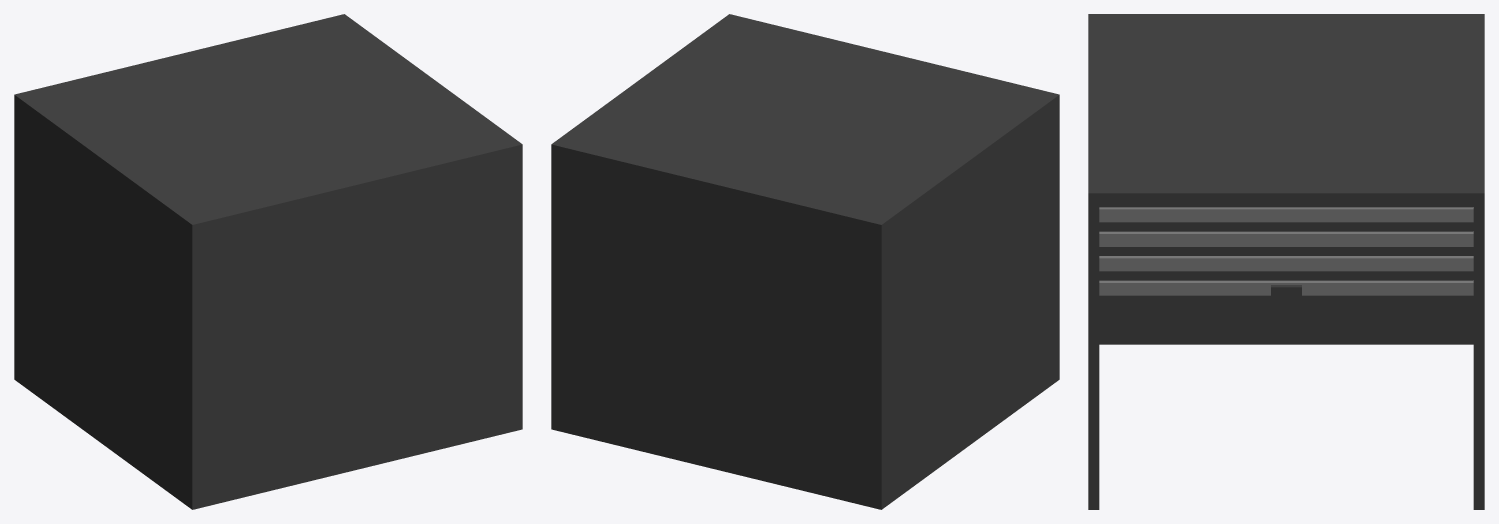
File: garage_Open.fbx
The picture shows the model from 3 angles, left to right: view 1: azimuth 30°, elevation 25°; view 2: azimuth 150°, elevation 25°; view 3: azimuth 270°, elevation 25°; orthographic projection. The views are drawn at different scales.
Parts seen in each view (by area): view 1: garage_Open; view 2: garage_Open; view 3: garage_Open.
Boxes of the visible parts, bbox=[...] form: garage_Open: bbox=[14, 14, 522, 509]; garage_Open: bbox=[551, 14, 1059, 509]; garage_Open: bbox=[1088, 14, 1484, 509].
Size of the model in its own units: 471 by 388 by 440.
1 material, 1 textured.
